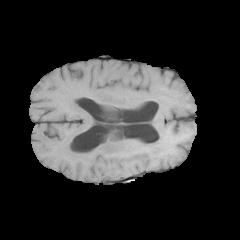glioma: (57, 139, 165, 164)
